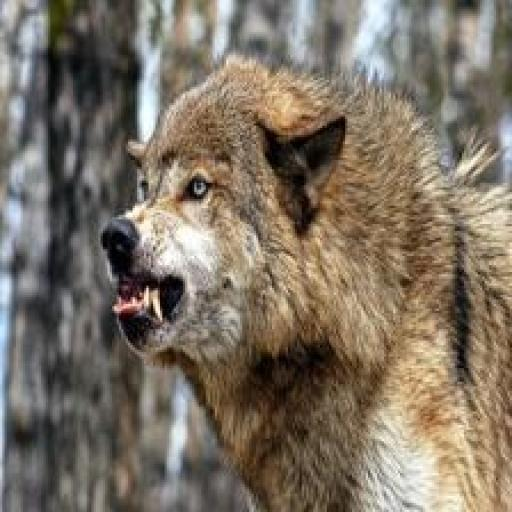wolf: (89, 34, 512, 512)
